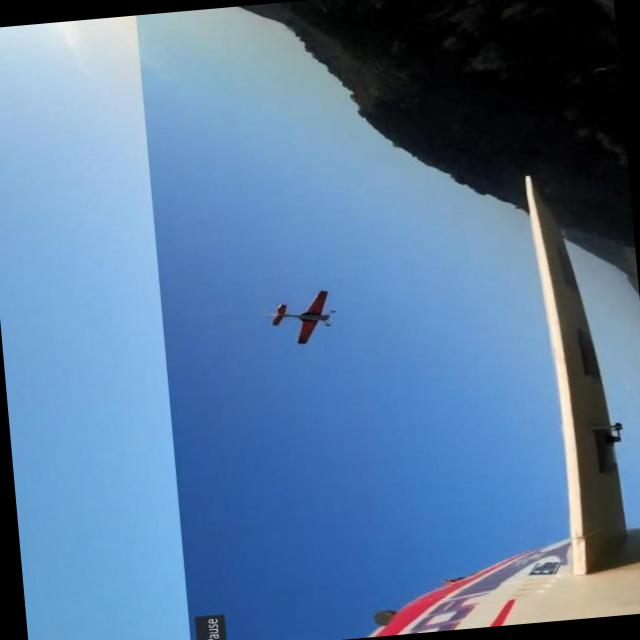UAV: (252, 252, 356, 352)
